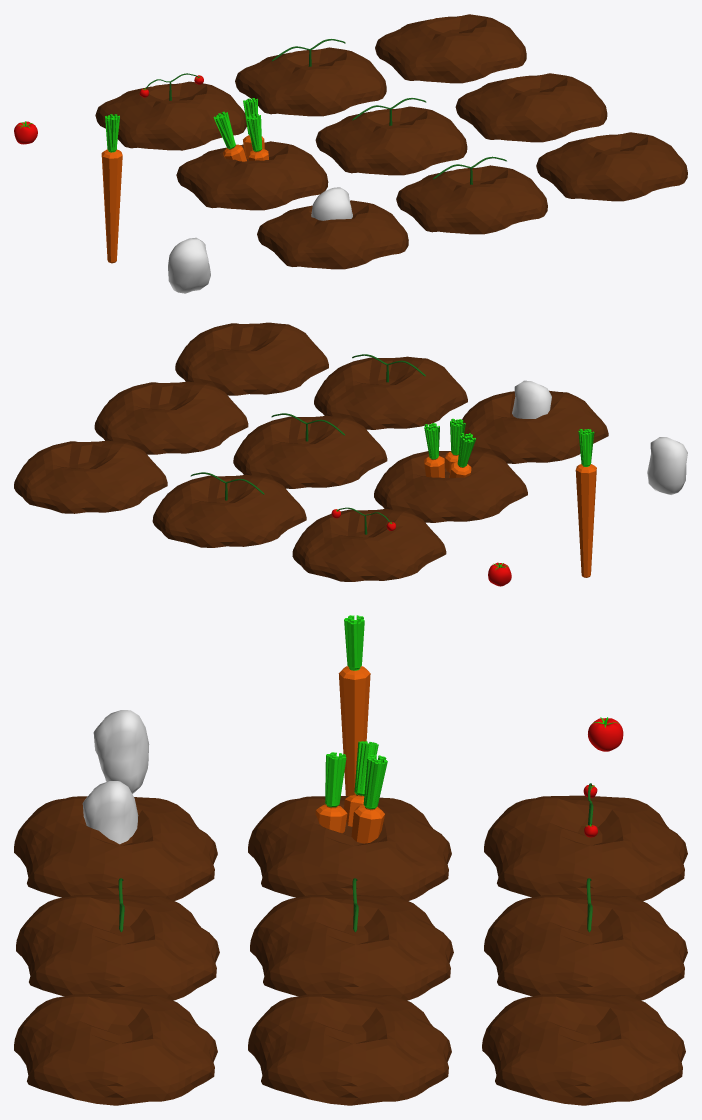
File: Low_Poly_Vegetables.fbx
The picture shows the model from 3 angles, top to bottom: view 1: azimuth 30°, elevation 25°; view 2: azimuth 150°, elevation 25°; view 3: azimuth 270°, elevation 25°; orthographic projection. The views are drawn at different scales.
Visible parts, largest first — view 1: CarrotStage3, CarrotStage2, PotatoStage2, TomatoStage2, CarrotStage1, PotatoStage1, TomatoStage1, TomatoStage3, PotatoStage3Soil, Carrot, Potato, PotatoStage3Potato (+1 smaller); view 2: CarrotStage3, TomatoStage3, TomatoStage2, TomatoStage1, CarrotStage2, PotatoStage2, PotatoStage1, CarrotStage1, PotatoStage3Soil, Carrot, Potato, PotatoStage3Potato (+1 smaller); view 3: CarrotStage3, PotatoStage1, CarrotStage1, TomatoStage1, PotatoStage2, CarrotStage2, TomatoStage2, TomatoStage3, PotatoStage3Soil, Carrot, Potato, PotatoStage3Potato (+1 smaller).
Boxes of the visible parts, box(x1,y1,x2,y2) form: CarrotStage3: box(176, 98, 328, 210); CarrotStage2: box(315, 98, 467, 175); PotatoStage2: box(396, 156, 547, 234); TomatoStage2: box(235, 39, 386, 116); CarrotStage1: box(455, 73, 607, 142); PotatoStage1: box(536, 132, 687, 201); TomatoStage1: box(375, 14, 526, 83); TomatoStage3: box(95, 73, 246, 150); PotatoStage3Soil: box(257, 200, 408, 269); Carrot: box(101, 114, 122, 263); Potato: box(168, 237, 210, 293); PotatoStage3Potato: box(311, 187, 352, 220); CarrotStage3: box(374, 418, 527, 522); TomatoStage3: box(292, 507, 446, 581); TomatoStage2: box(152, 472, 306, 547); TomatoStage1: box(14, 440, 167, 513); CarrotStage2: box(233, 413, 387, 488); PotatoStage2: box(314, 354, 467, 429); PotatoStage1: box(175, 322, 328, 395); CarrotStage1: box(94, 381, 248, 454); PotatoStage3Soil: box(462, 390, 608, 463); Carrot: box(575, 429, 596, 577); Potato: box(647, 437, 687, 494); PotatoStage3Potato: box(512, 380, 551, 418); CarrotStage3: box(248, 741, 451, 900); PotatoStage1: box(14, 993, 217, 1105); CarrotStage1: box(248, 994, 451, 1105); TomatoStage1: box(482, 994, 685, 1105); PotatoStage2: box(16, 878, 219, 1000); CarrotStage2: box(250, 878, 453, 1000); TomatoStage2: box(484, 878, 687, 1000); TomatoStage3: box(484, 783, 687, 901); PotatoStage3Soil: box(14, 796, 217, 900); Carrot: box(338, 615, 370, 795); Potato: box(93, 710, 149, 793); PotatoStage3Potato: box(82, 781, 138, 844).
Size of the model in its own units: 721 by 200 by 576.
